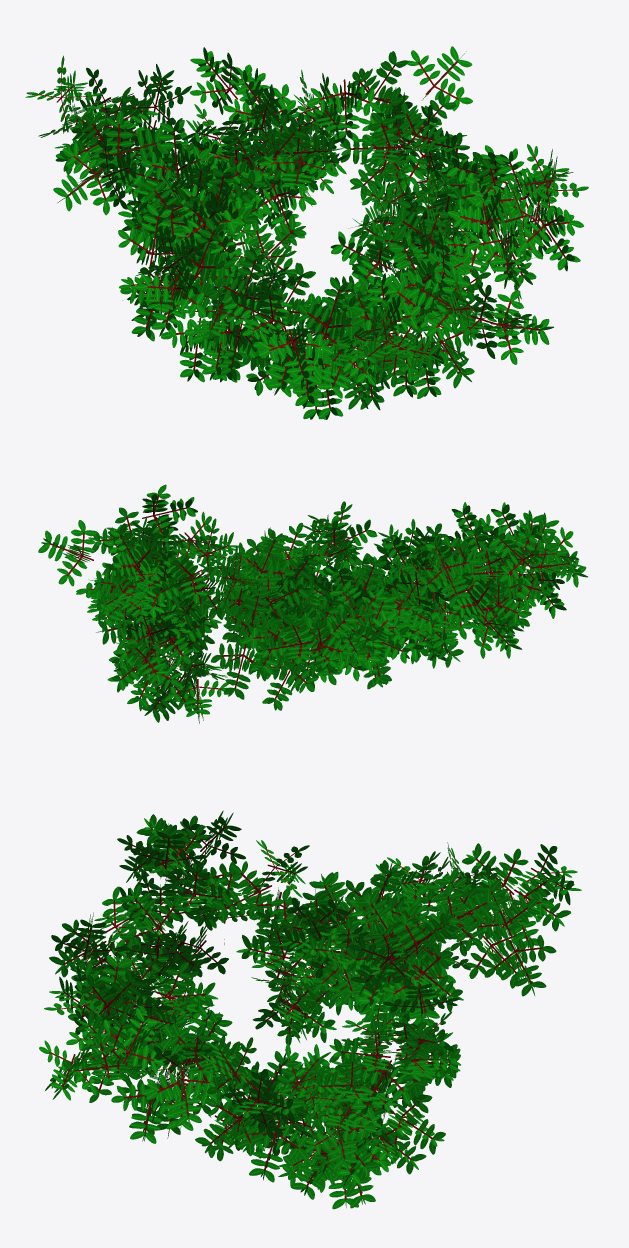
Rendered from level_1_tree_2_leaves.fbx.
The picture shows the model from 3 angles, top to bottom: view 1: azimuth 30°, elevation 25°; view 2: azimuth 150°, elevation 25°; view 3: azimuth 270°, elevation 25°; orthographic projection. The views are drawn at different scales.
Visible parts, largest first — view 1: tree_branch.132; view 2: tree_branch.132; view 3: tree_branch.132.
Boxes of the visible parts, x1,y1,x2,y2 form: tree_branch.132: (25, 46, 588, 419); tree_branch.132: (38, 484, 587, 723); tree_branch.132: (39, 810, 581, 1209).
Bounding box in the file's own units: 1958 × 2024 × 1131.
